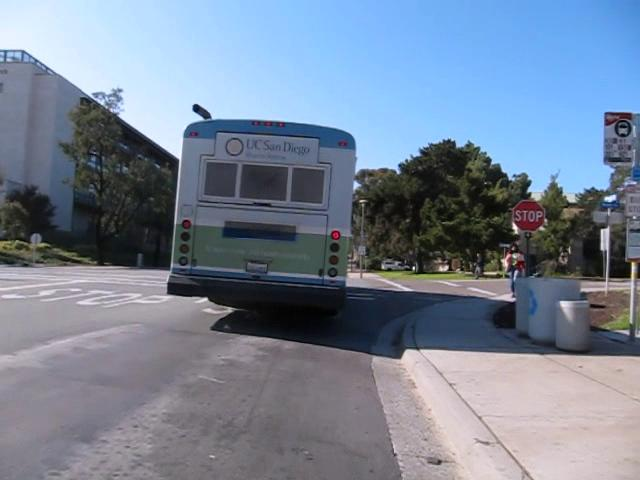stop: (511, 199, 545, 232)
